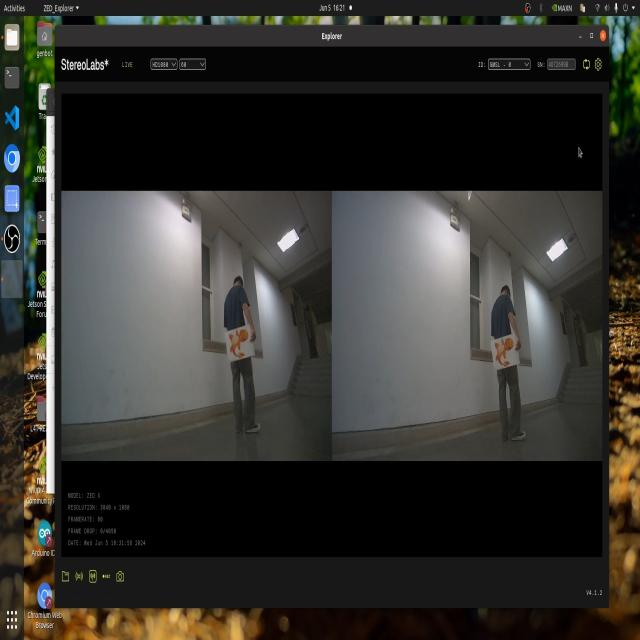red: (493, 332, 520, 377), (232, 325, 252, 365)
